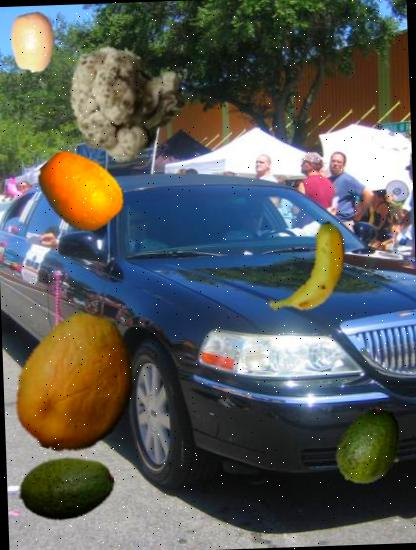Avocado: (17, 438, 118, 540), (328, 405, 414, 490)
Banana: (257, 216, 367, 326)
Cauliflower: (65, 36, 191, 162)
Kumquats: (36, 145, 127, 237), (1, 10, 65, 74)
Papaya: (2, 307, 151, 456)
